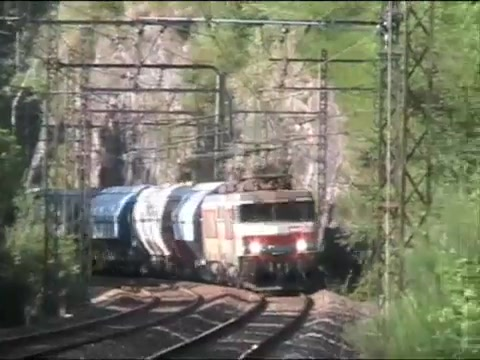train: (89, 177, 325, 292)
